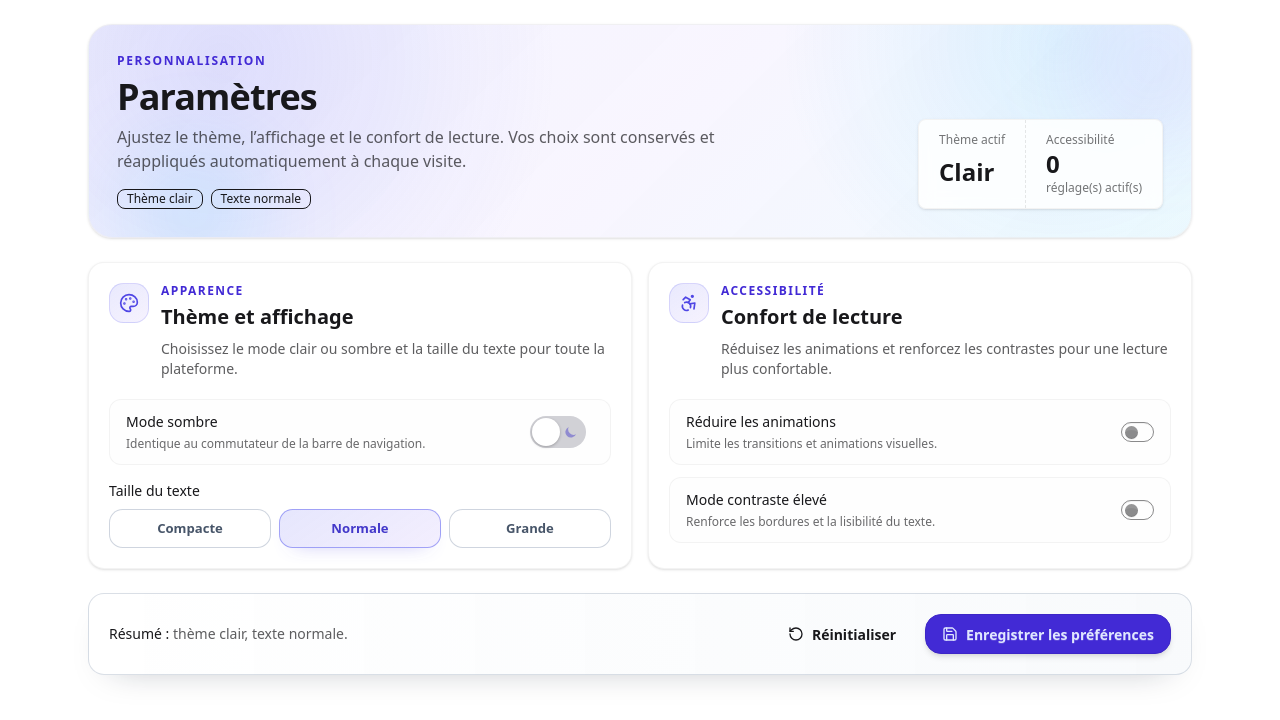
Test: Settings page › permet de modifier et sauvegarder les préférences
Expected: the heading "Paramètres" is shown, [117, 72, 317, 121]
Click the button "Réinitialiser" at coordinates (842, 634), box [771, 614, 913, 654]
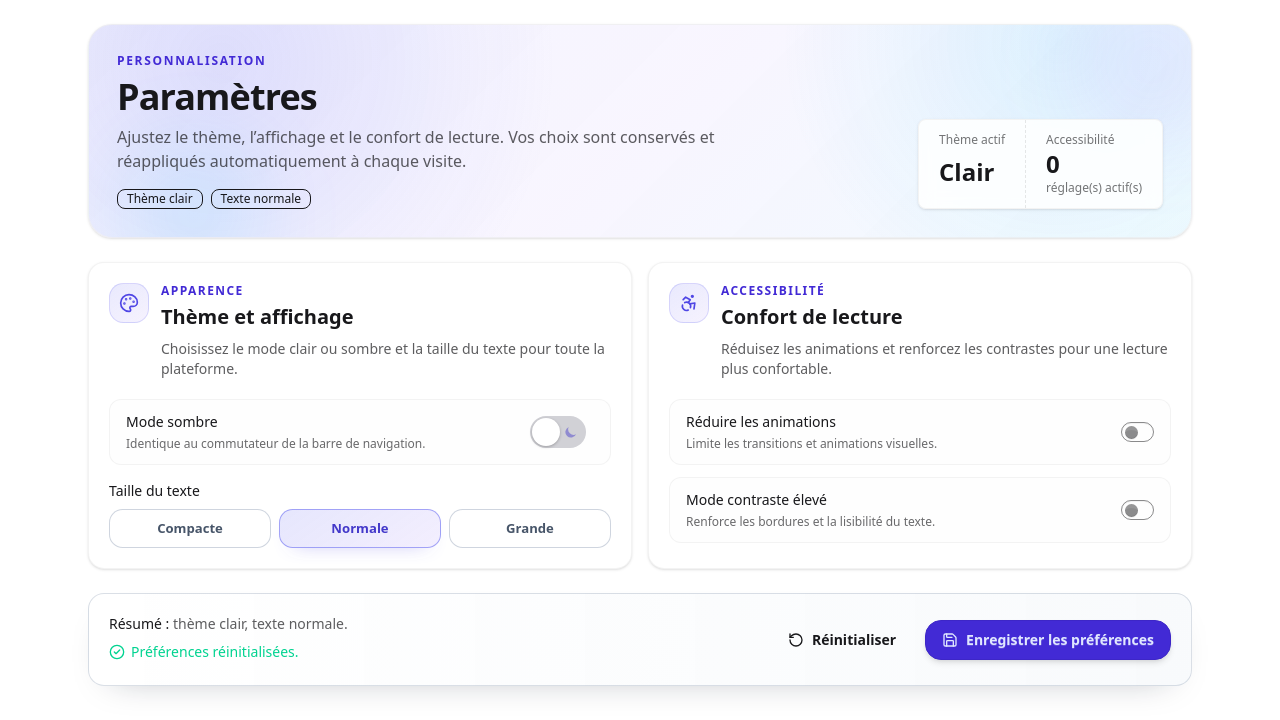
Click the button "Enregistrer les préférences" at coordinates (1048, 640), box [925, 620, 1171, 660]
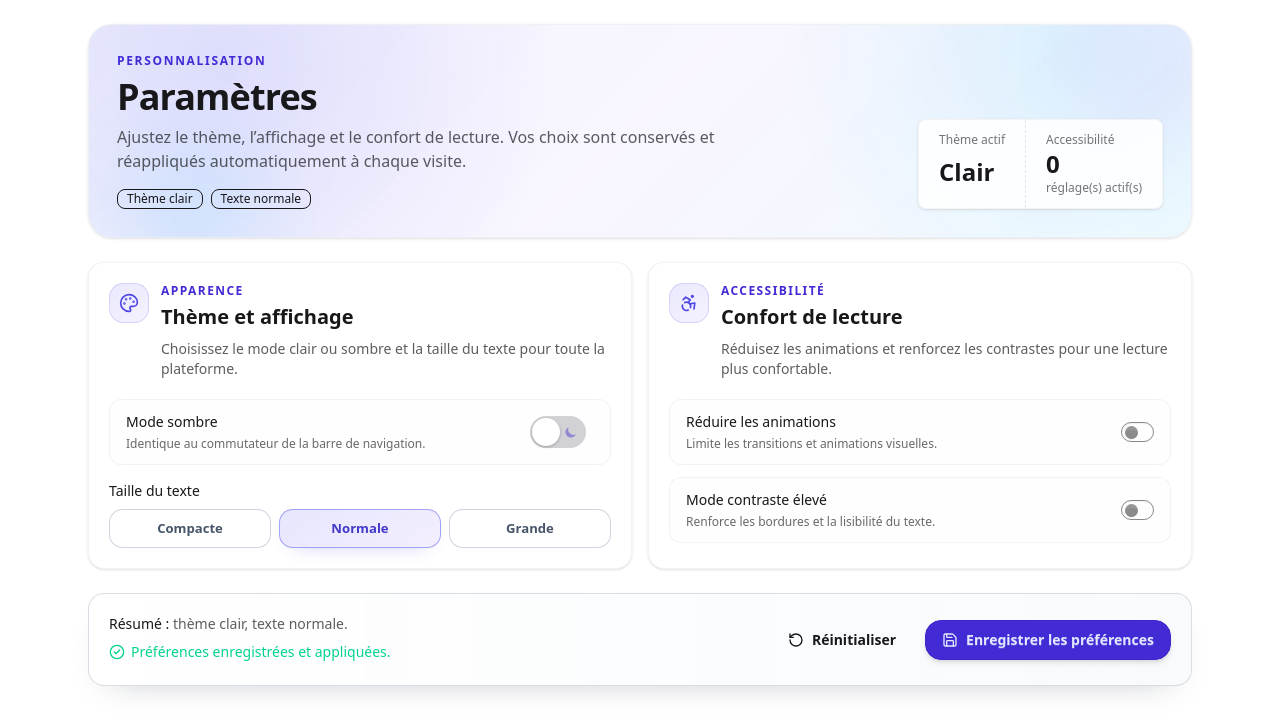
Result: the text "Préférences enregistrées et appliquées." is shown at [109, 642, 391, 662]
